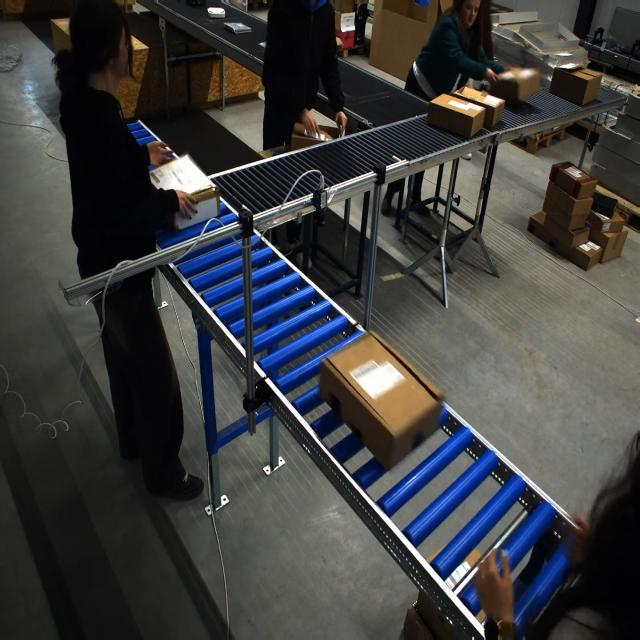box: (329, 350, 436, 463), (149, 153, 218, 229), (427, 93, 485, 140), (518, 21, 580, 54), (490, 65, 541, 105), (289, 122, 329, 152)
product: (223, 22, 251, 35), (207, 7, 226, 18), (258, 41, 267, 50)
